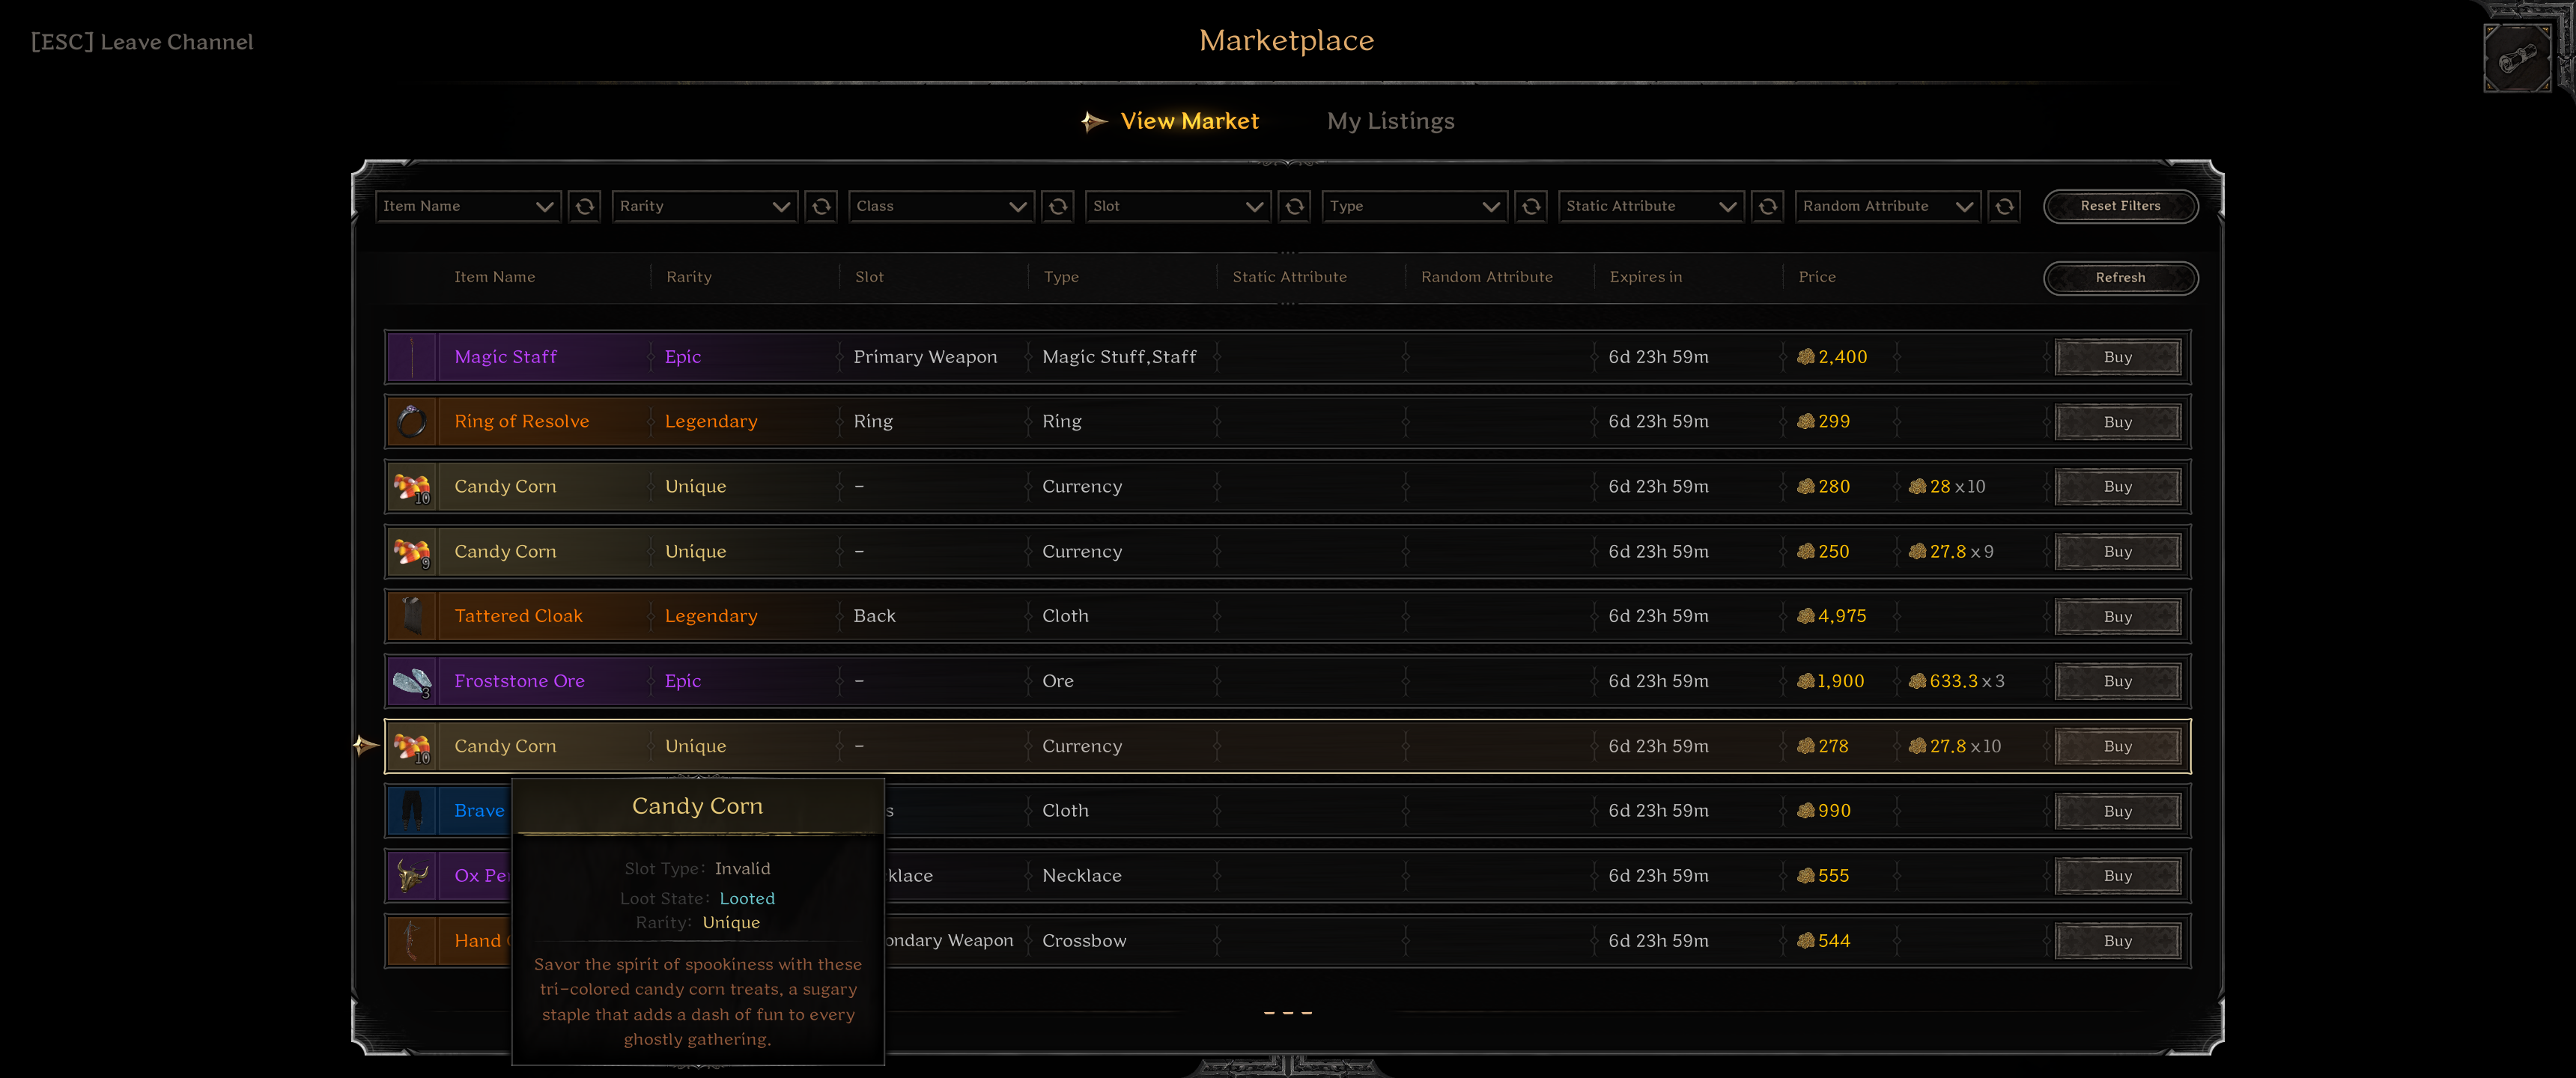Tooltip: (509, 776, 885, 1066)
